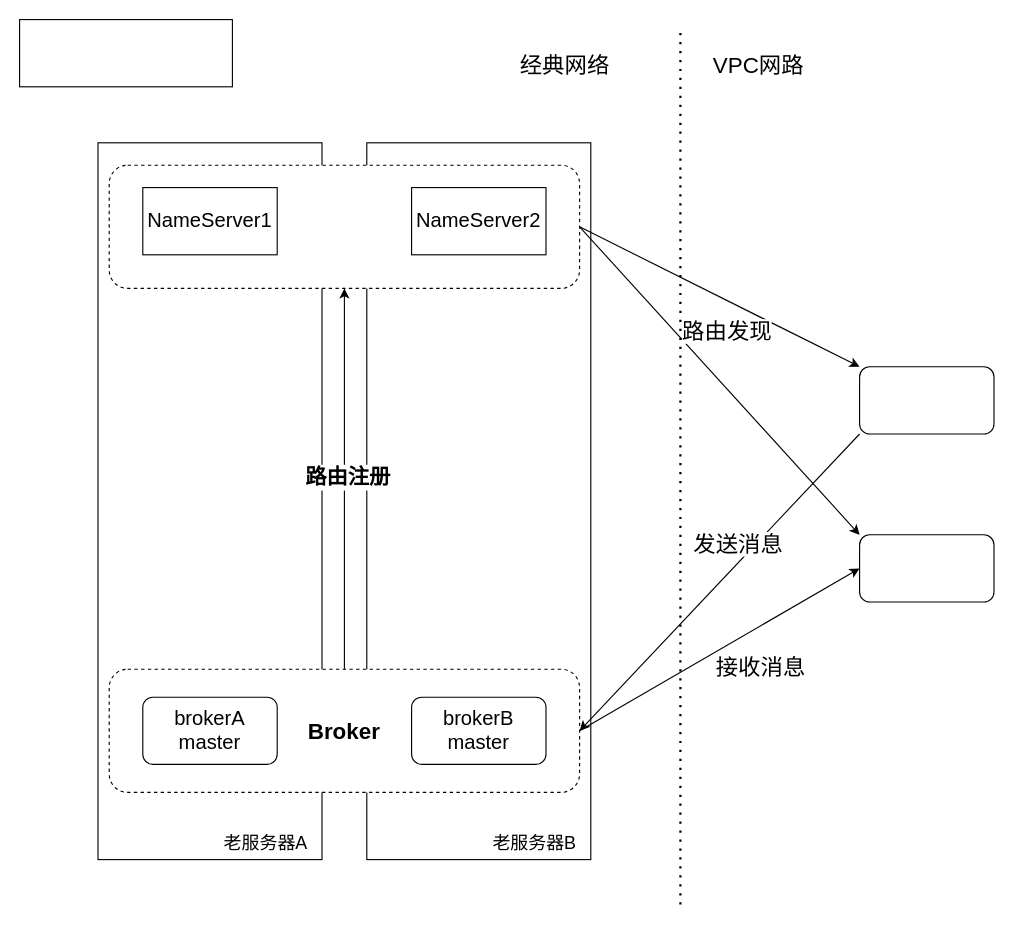
This 1014x926 diagram has some shape labels left out. Each missing label, with the box of its shape:
Consumers: (858, 534, 994, 602)
NameSrv: (108, 164, 580, 288)
Producers: (858, 366, 994, 434)
迁移前状态: (18, 18, 232, 87)
